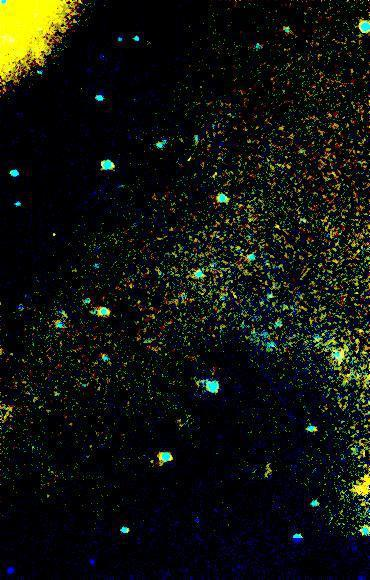star: (352, 470, 370, 500)
